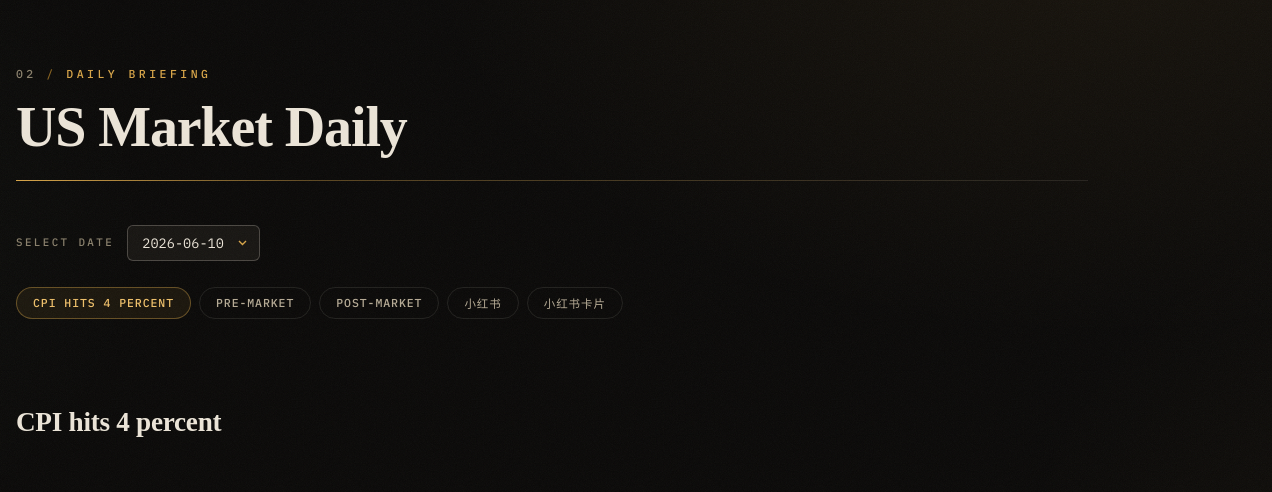
Test: MarketPage › falls back to the other language with a note when no translation exists
Expected: the heading "CPI hits 4 percent" is shown, [16,407,221,437]
Select "2026-06-08" in the dropdown at (194, 243), box [127,225,260,261]
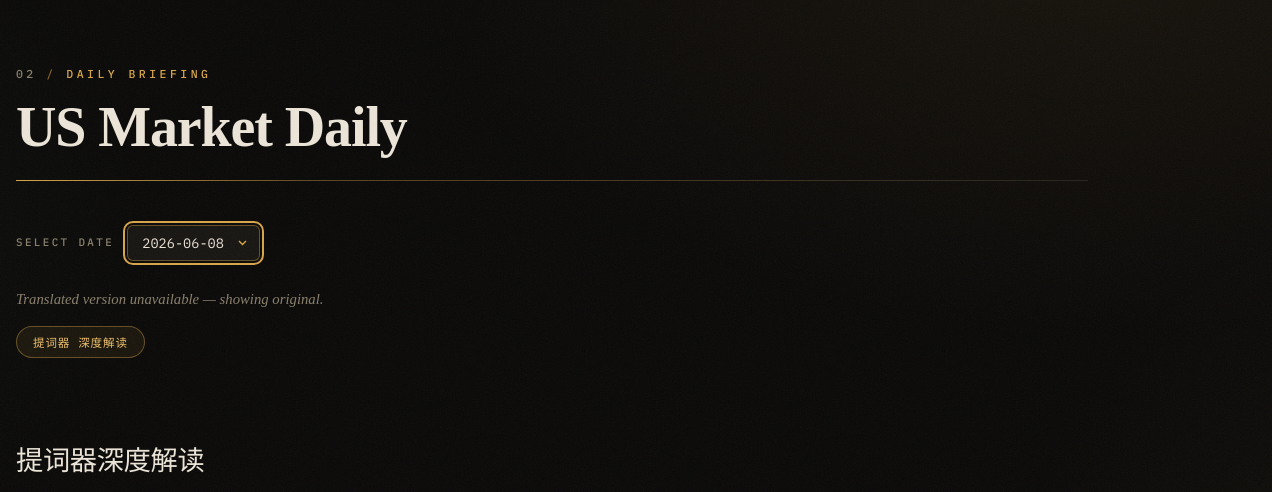
Expected: the heading "提词器深度解读" is shown, [16,446,204,476]
Expected: the text "Translated version unavailable — showing original." is shown, [16,291,324,307]
